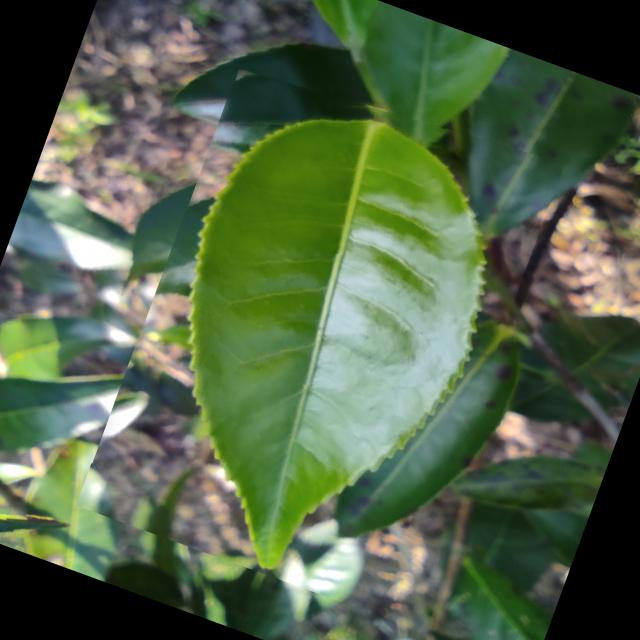Category B(2-4 days): (74, 46, 564, 622)
